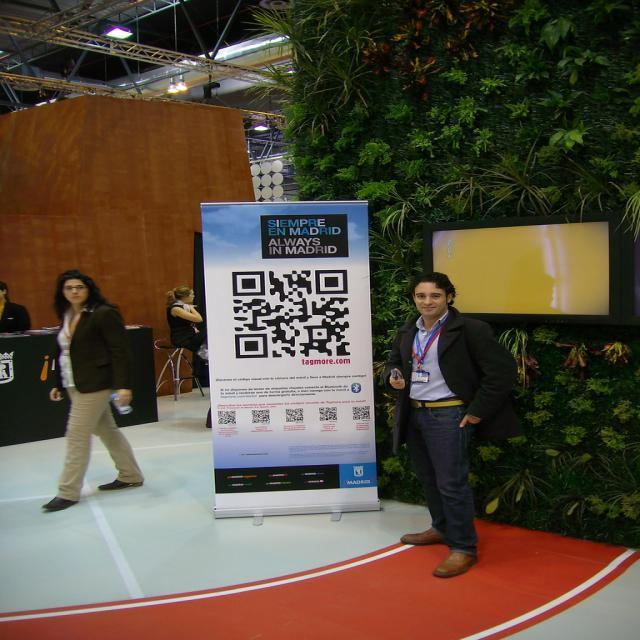qrcode: (233, 271, 351, 360), (218, 412, 236, 425), (253, 411, 270, 424), (320, 408, 337, 421), (287, 409, 303, 422), (354, 407, 370, 420)
